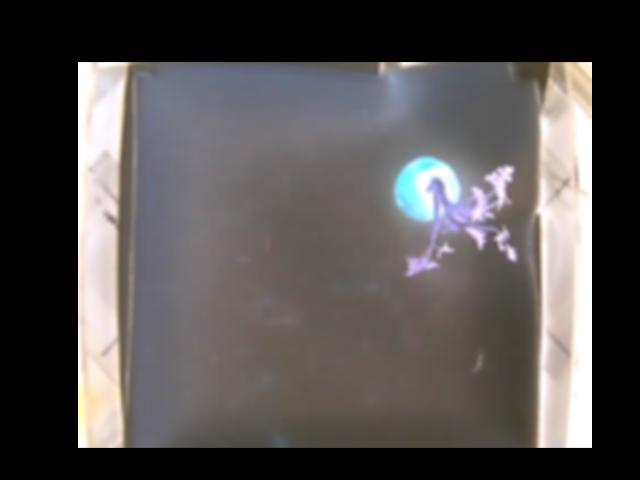Carrot: (392, 157, 519, 277)
